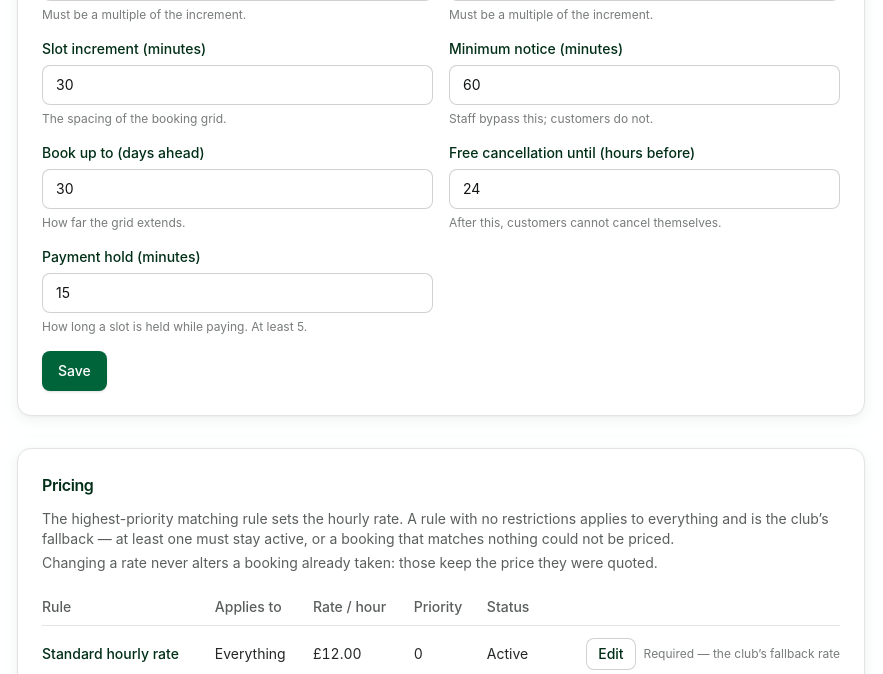
Test: AdminSettingsPage › surfaces the server's refusal when the rules are inconsistent
(page scrolled)
Click the button "Save" at (74,370), box [42,350,107,390]
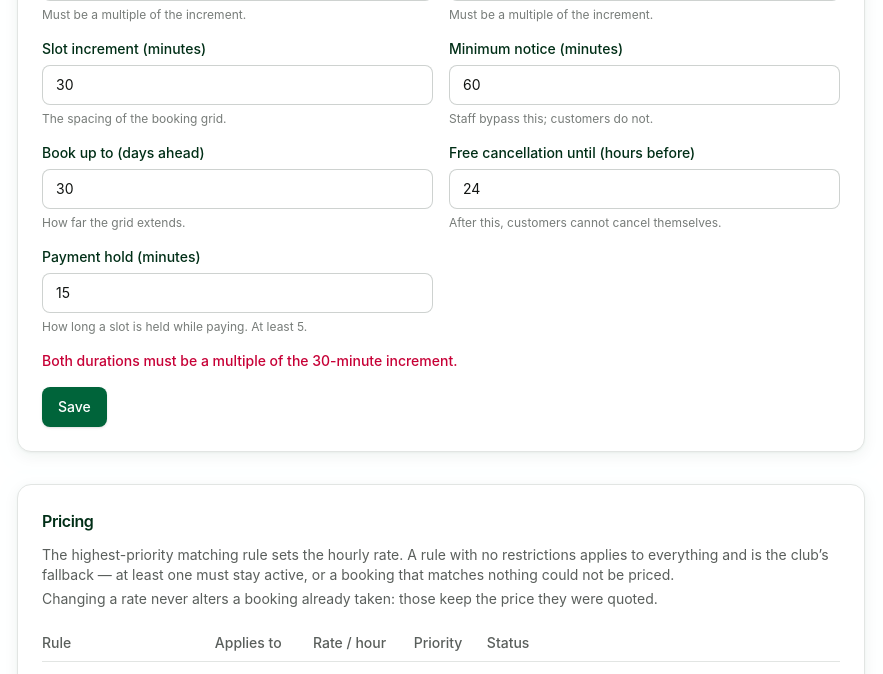
Expected: the message shows "multiple of the 30-minute increment", [42,352,457,368]
